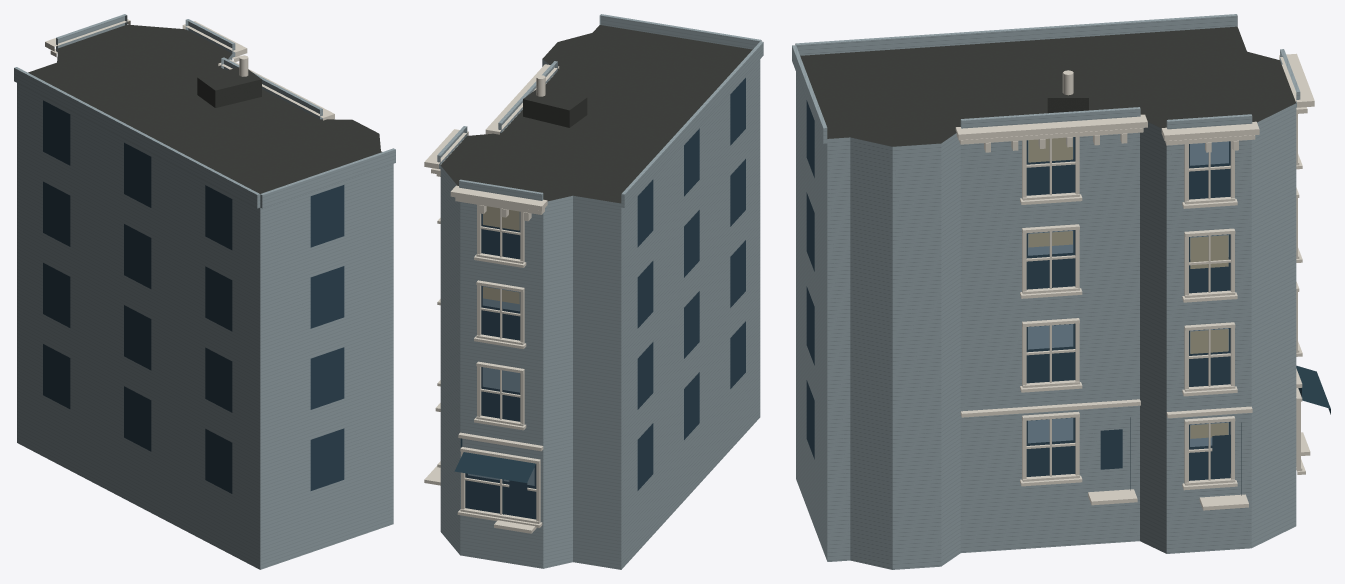
3 renders of one model, left to right at view 1: azimuth 30°, elevation 25°; view 2: azimuth 150°, elevation 25°; view 3: azimuth 270°, elevation 25°, orthographic. The views are drawn at different scales.
Visible parts, largest first — view 1: Footprint 0 / surface 2, Footprint 0 / surface 1, Inset glazing, Facade bay volumes, Cornices and window frames, Inferred rooftop service enclosure / surface 5, Inferred rooftop service enclosure / surface 3; view 2: Footprint 0 / surface 2, Footprint 0 / surface 1, Inset glazing, Cornices and window frames, Facade bay volumes, Storefronts and doors, Sky reflection panels, Interior blind variation, Inferred rooftop service enclosure / surface 6, Inferred rooftop service enclosure / surface 3; view 3: Footprint 0 / surface 2, Footprint 0 / surface 1, Cornices and window frames, Inset glazing, Facade bay volumes, Interior blind variation, Sky reflection panels, Storefronts and doors, Inferred rooftop service enclosure / surface 3.
Part boxes in pixels (x1,y1,x2,y2): Footprint 0 / surface 2: [17, 54, 393, 569]; Footprint 0 / surface 1: [28, 24, 381, 193]; Inset glazing: [43, 100, 344, 493]; Facade bay volumes: [14, 14, 395, 208]; Cornices and window frames: [45, 19, 334, 120]; Inferred rooftop service enclosure / surface 5: [215, 79, 261, 107]; Inferred rooftop service enclosure / surface 3: [198, 67, 261, 90]; Footprint 0 / surface 2: [440, 59, 760, 569]; Footprint 0 / surface 1: [440, 25, 752, 203]; Inset glazing: [465, 78, 745, 519]; Cornices and window frames: [424, 64, 559, 533]; Facade bay volumes: [437, 14, 763, 207]; Storefronts and doors: [454, 438, 535, 514]; Sky reflection panels: [468, 212, 534, 485]; Interior blind variation: [483, 206, 519, 304]; Inferred rooftop service enclosure / surface 6: [523, 99, 569, 127]; Inferred rooftop service enclosure / surface 3: [523, 87, 586, 110]; Footprint 0 / surface 2: [796, 72, 1296, 569]; Footprint 0 / surface 1: [800, 26, 1295, 146]; Cornices and window frames: [955, 53, 1314, 510]; Inset glazing: [806, 100, 1230, 480]; Facade bay volumes: [792, 14, 1300, 143]; Interior blind variation: [1028, 137, 1228, 438]; Sky reflection panels: [1028, 137, 1228, 446]; Storefronts and doors: [1130, 365, 1330, 495]; Inferred rooftop service enclosure / surface 3: [1047, 72, 1088, 97].
Size of the model in its own units: 8.37 by 14.85 by 15.64.
